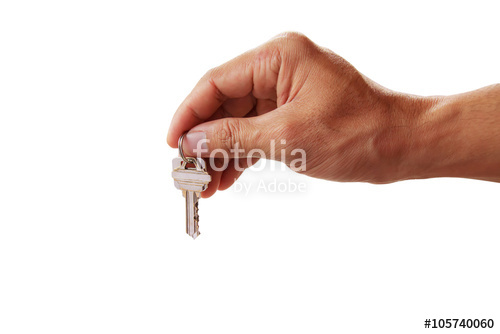finger: (165, 42, 295, 147)
